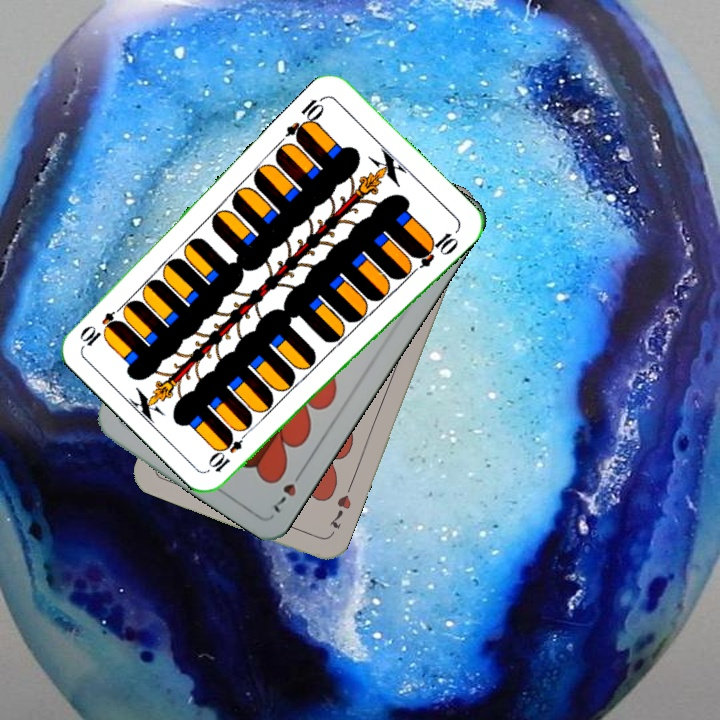E10: (205, 424, 253, 475), (282, 92, 328, 145)
H7: (267, 464, 307, 516), (325, 490, 354, 532)
